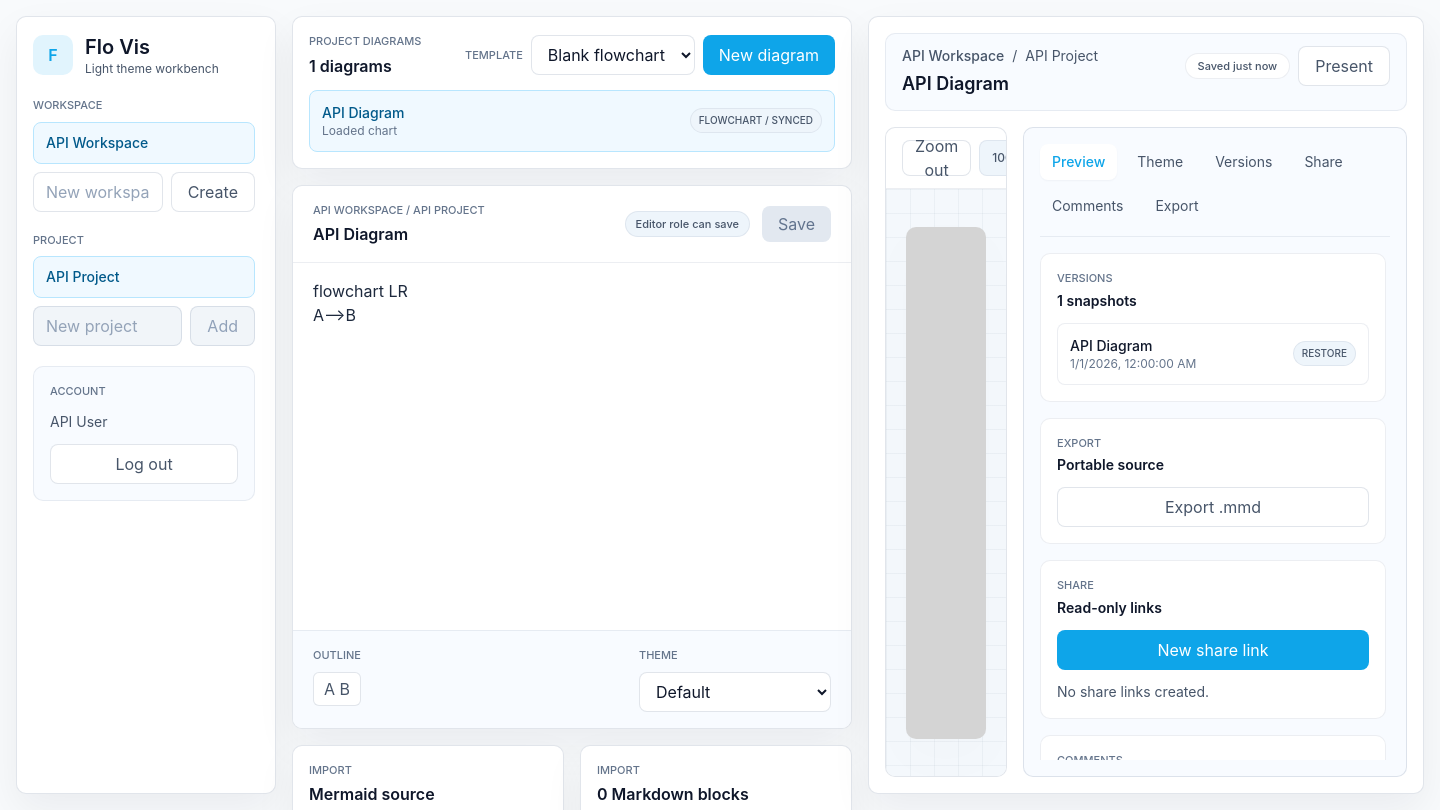
Test: WorkspaceProjectShell › exports Mermaid source through the API client
Expected: the button "API Diagram Loaded chart flowchart / Synced" is shown, 309,90 -> 835,152
Click the button "Export .mmd". click: (1213,507)
box: 1057,487 -> 1369,527
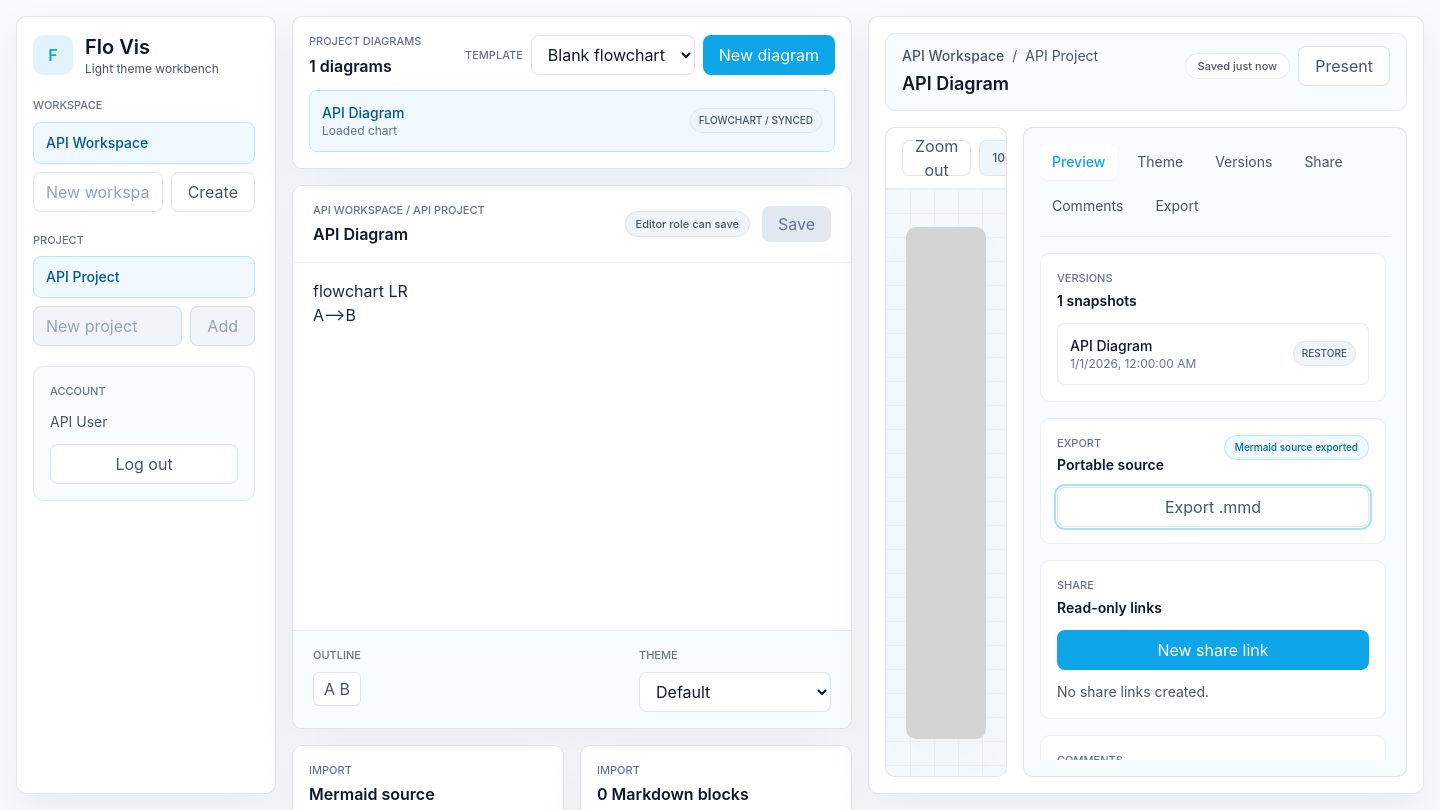
Expected: the text "Mermaid source exported" is shown, 1224,434 -> 1369,460
